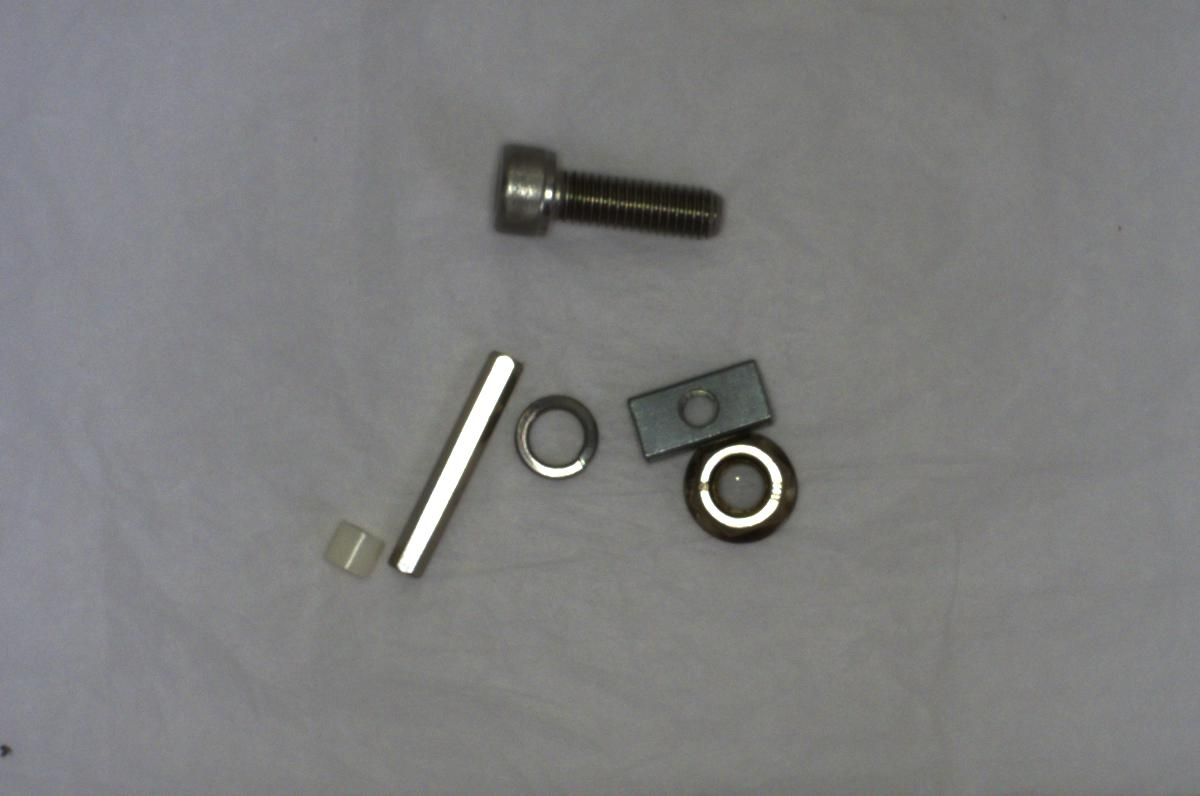Double hexagonal column: (379, 344, 525, 582)
Flange nut: (679, 436, 808, 544)
Hexagon screw: (480, 133, 726, 256)
Plastic cushion pillar: (320, 513, 384, 585)
Rectangular nut: (628, 351, 791, 462)
Spring washer: (512, 391, 602, 482)
